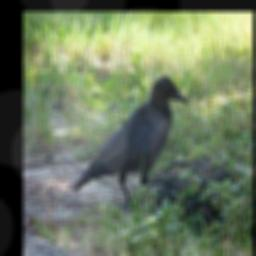Crow: (66, 75, 188, 211)
